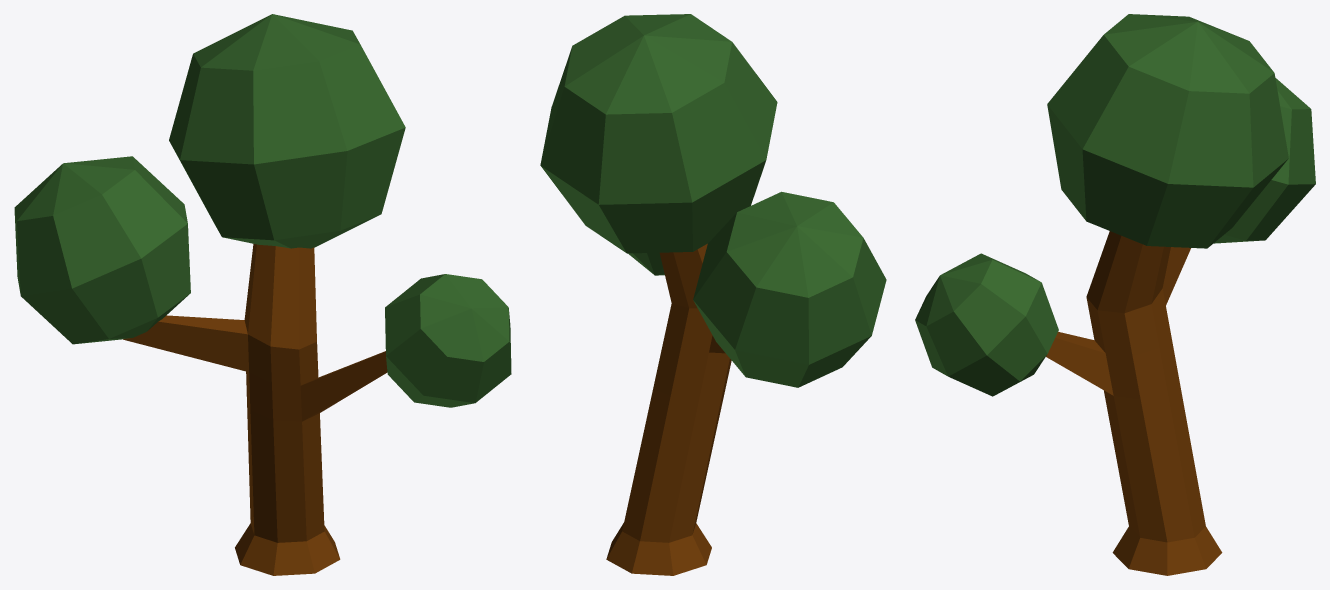
File: Tree2.fbx
The picture shows the model from 3 angles, left to right: view 1: azimuth 30°, elevation 25°; view 2: azimuth 150°, elevation 25°; view 3: azimuth 270°, elevation 25°; orthographic projection.
Parts seen in each view (by area): view 1: Tree2; view 2: Tree2; view 3: Tree2.
Part boxes in pixels (box(x1,y1,x2,y2)): Tree2: box(14, 14, 511, 575); Tree2: box(540, 14, 886, 575); Tree2: box(915, 14, 1315, 575).
Size of the model in its own units: 562 by 761 by 521.
Materials: 2 (2 with a texture image).
